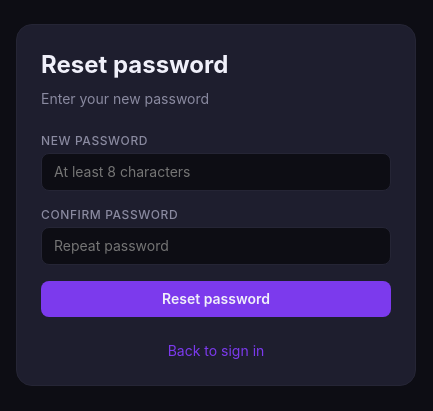
ResetPasswordPage › should show error for short password
In the password field labelled "New password": x=216, y=172 [41, 153, 391, 191], type "short"
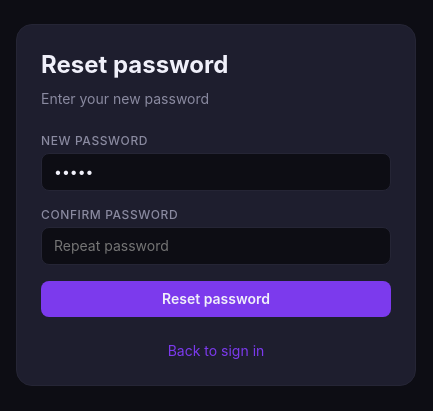
In the password field labelled "Confirm password": x=216, y=246 [41, 227, 391, 265], type "short"
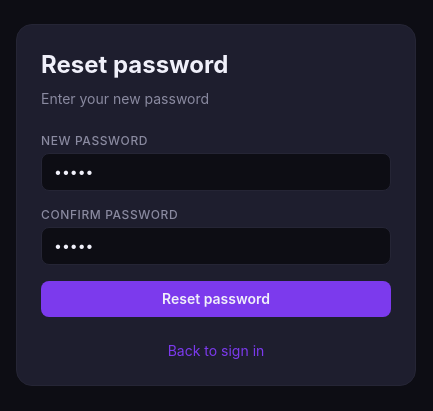
Click the button "Reset password": x=216, y=299 [41, 281, 391, 317]
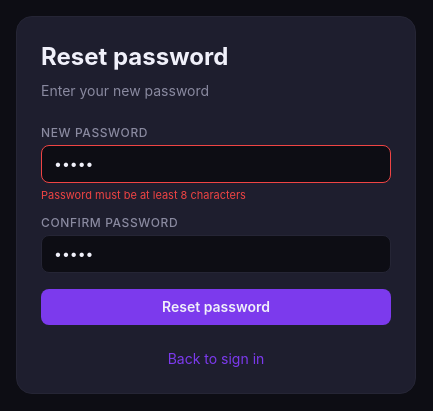
Check: the text "Password must be at least 8 characters" is shown, box [41, 188, 246, 202]
